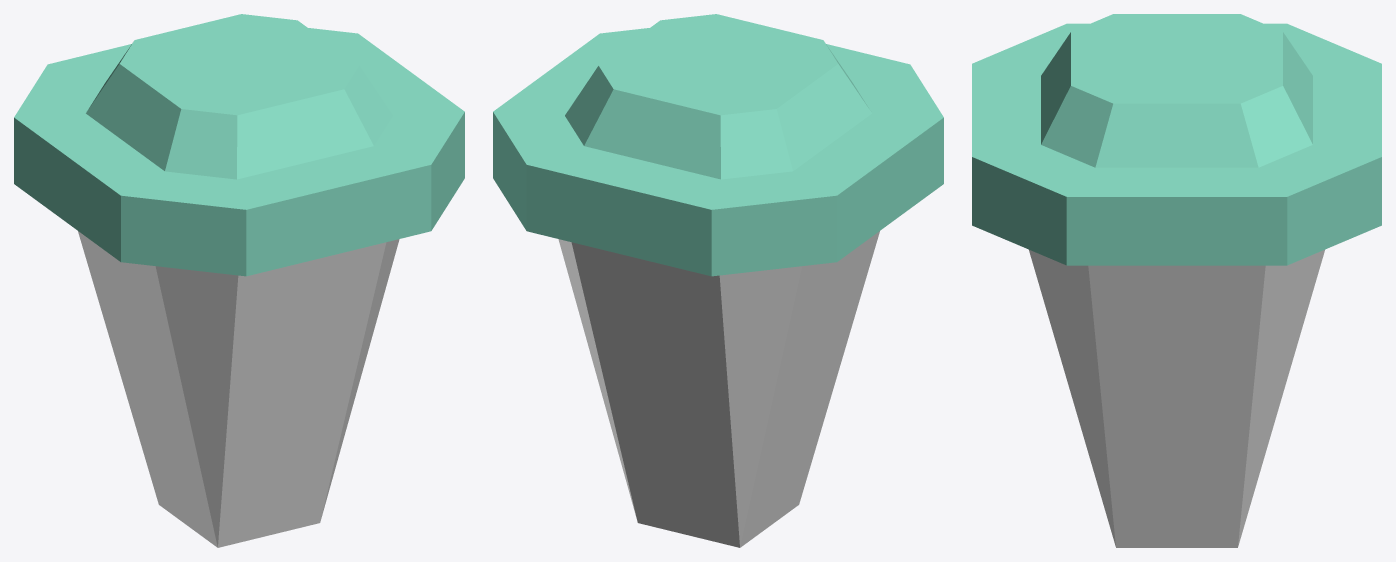
The model's file is Small Lantern.fbx.
3 views of the same model, side by side, from view 1: azimuth 30°, elevation 25°; view 2: azimuth 150°, elevation 25°; view 3: azimuth 270°, elevation 25° (orthographic). The views are drawn at different scales.
Parts seen in each view (by area): view 1: lantern; view 2: lantern; view 3: lantern.
Boxes of the visible parts, x1,y1,x2,y2 form: lantern: (14,14,464,547); lantern: (493,14,943,547); lantern: (972,14,1381,547).
Size of the model in its own units: 21.64 by 27 by 21.64.
